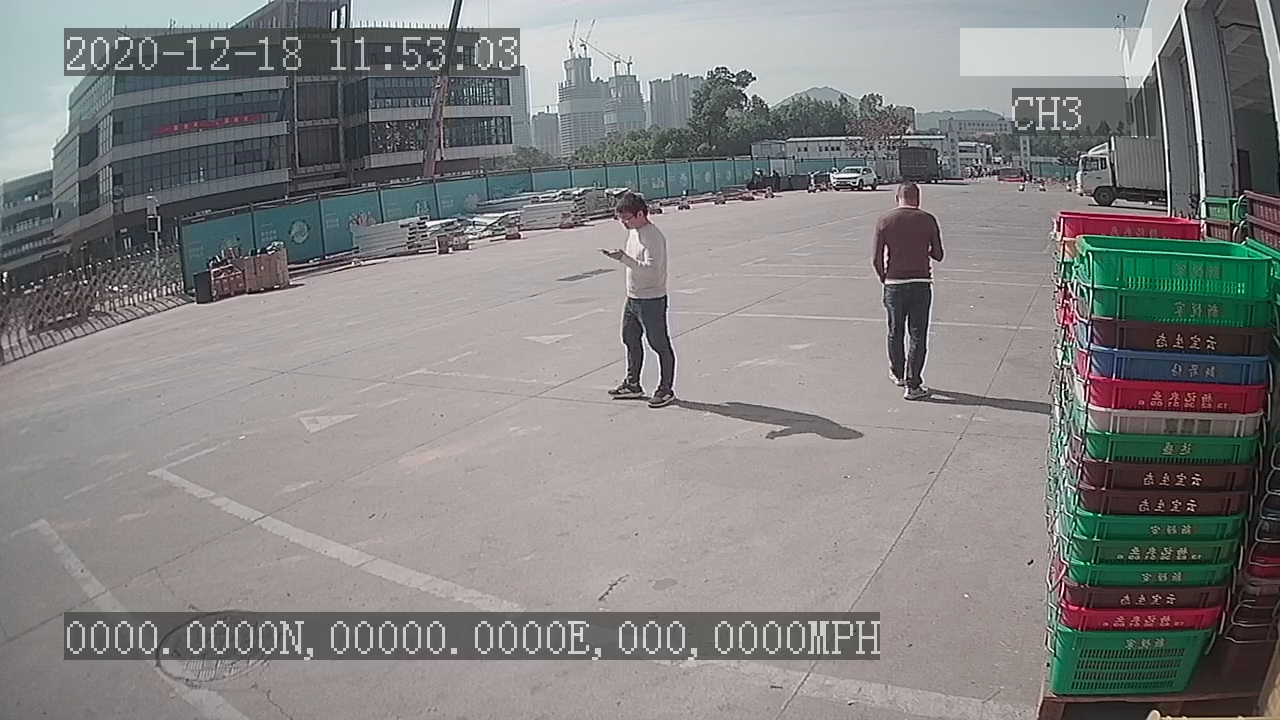person: (592, 186, 679, 419), (865, 176, 949, 408)
